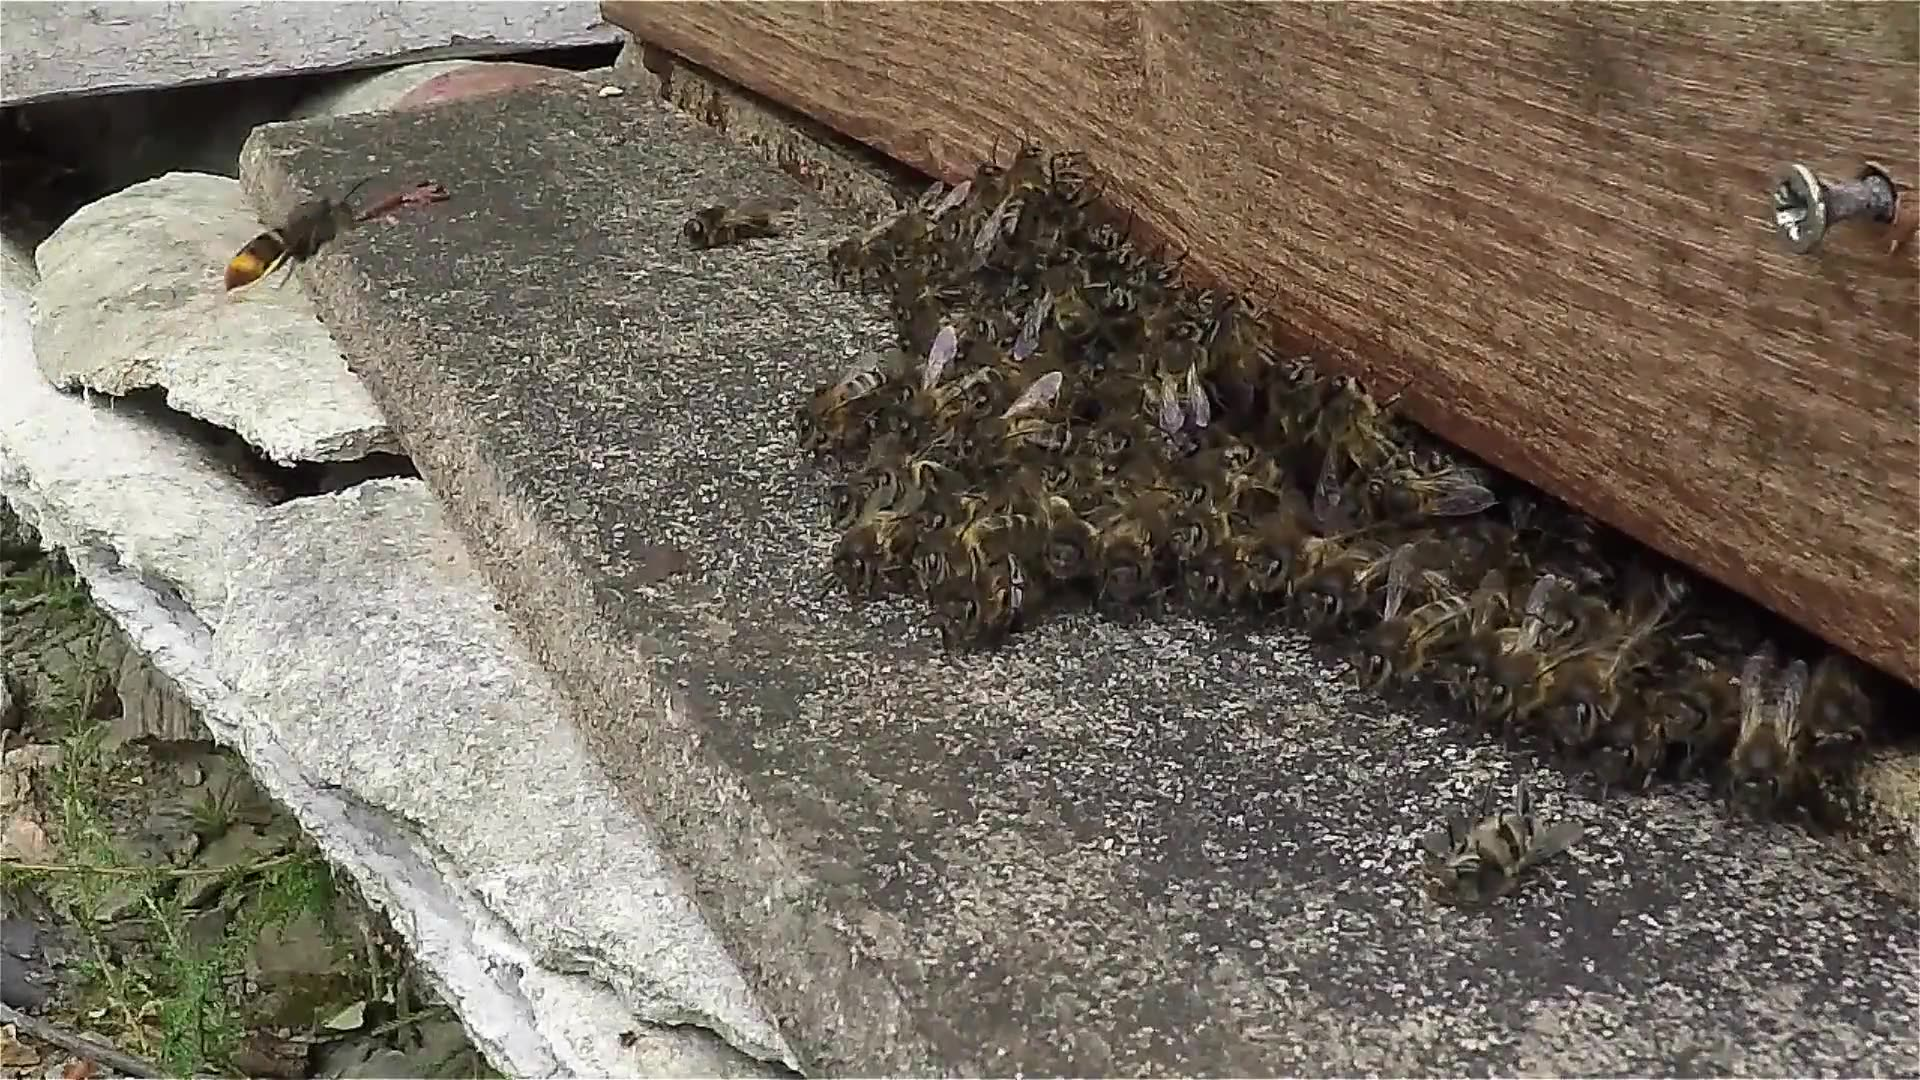bee: (816, 156, 1236, 661), (1226, 291, 1482, 682), (1486, 479, 1747, 800), (1722, 622, 1888, 841), (1428, 816, 1561, 909), (671, 191, 791, 262)
hornet: (222, 173, 359, 307)
